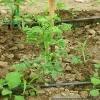Tomato leaf: (14, 63, 25, 73), (51, 68, 58, 81), (71, 57, 79, 65), (58, 41, 67, 48), (42, 37, 53, 42), (59, 48, 66, 55), (25, 61, 32, 68)
